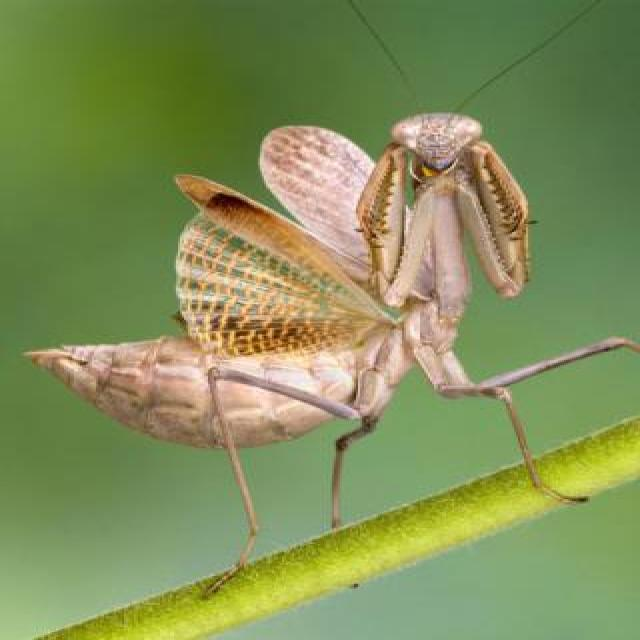antennae: (454, 2, 606, 120), (354, 0, 428, 119)
body: (38, 117, 487, 442)
insect: (22, 0, 640, 595)
legs: (204, 369, 358, 595), (414, 339, 581, 506), (327, 349, 404, 532), (448, 139, 534, 300), (432, 336, 638, 400), (362, 144, 422, 309)
mouthpart: (420, 155, 455, 176)
wings: (173, 195, 390, 354), (263, 129, 425, 277)
